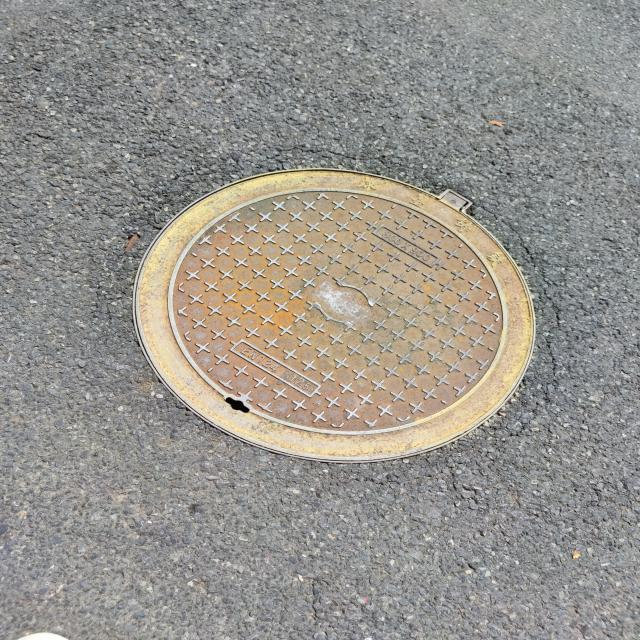Good: (125, 166, 543, 466)
